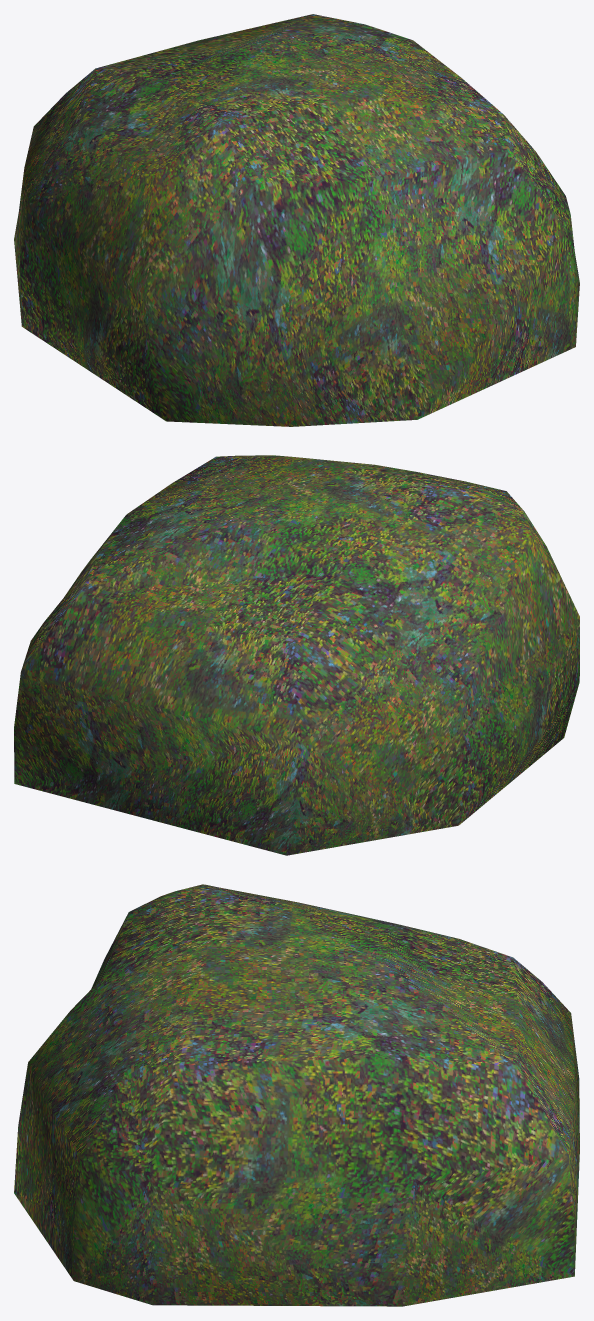
File: rock_mossy_small_l0.fbx
3 renders of one model, top to bottom at view 1: azimuth 30°, elevation 25°; view 2: azimuth 150°, elevation 25°; view 3: azimuth 270°, elevation 25°, orthographic. The views are drawn at different scales.
Parts seen in each view (by area): view 1: mesh_node; view 2: mesh_node; view 3: mesh_node.
Boxes of the visible parts, left/top/right/bottom form: mesh_node: left=14, top=14, right=579, bottom=426; mesh_node: left=14, top=455, right=579, bottom=855; mesh_node: left=14, top=884, right=579, bottom=1306.
Size of the model in its own units: 1.68 by 0.9359 by 1.83.
